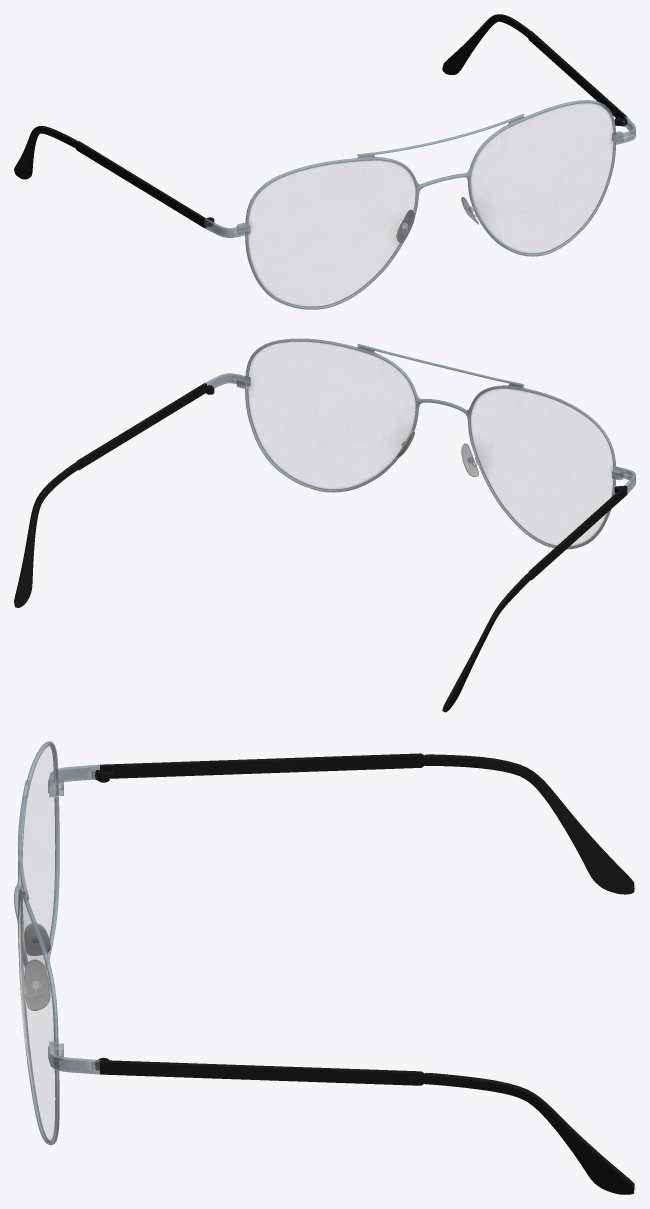
File: aviator_glasses.glb
The picture shows the model from 3 angles, top to bottom: view 1: azimuth 30°, elevation 25°; view 2: azimuth 150°, elevation 25°; view 3: azimuth 270°, elevation 25°; orthographic projection. The views are drawn at different scales.
Visible parts, largest first — view 1: Lenses_0; view 2: Lenses_0; view 3: Lenses_0.
Part boxes in pixels (x1,y1,x2,y2): Lenses_0: (14,14,635,309); Lenses_0: (14,338,635,712); Lenses_0: (14,741,634,1194).
Bounding box in the file's own units: 0.1926 × 0.0601 × 0.1557.
Materials: 2 (1 with a texture image).
